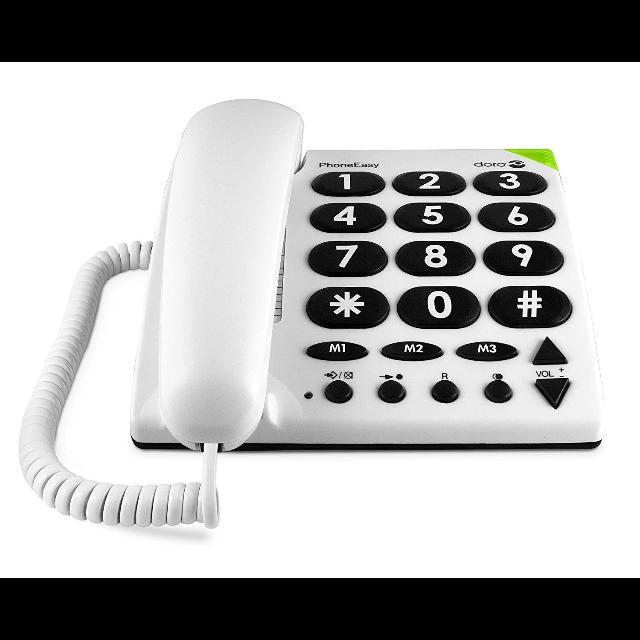Telephone-Set: (46, 76, 640, 514)
